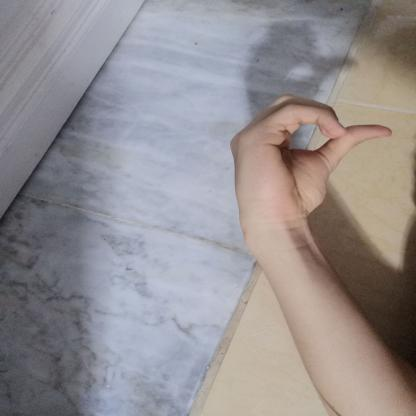WAW: (218, 83, 404, 230)
